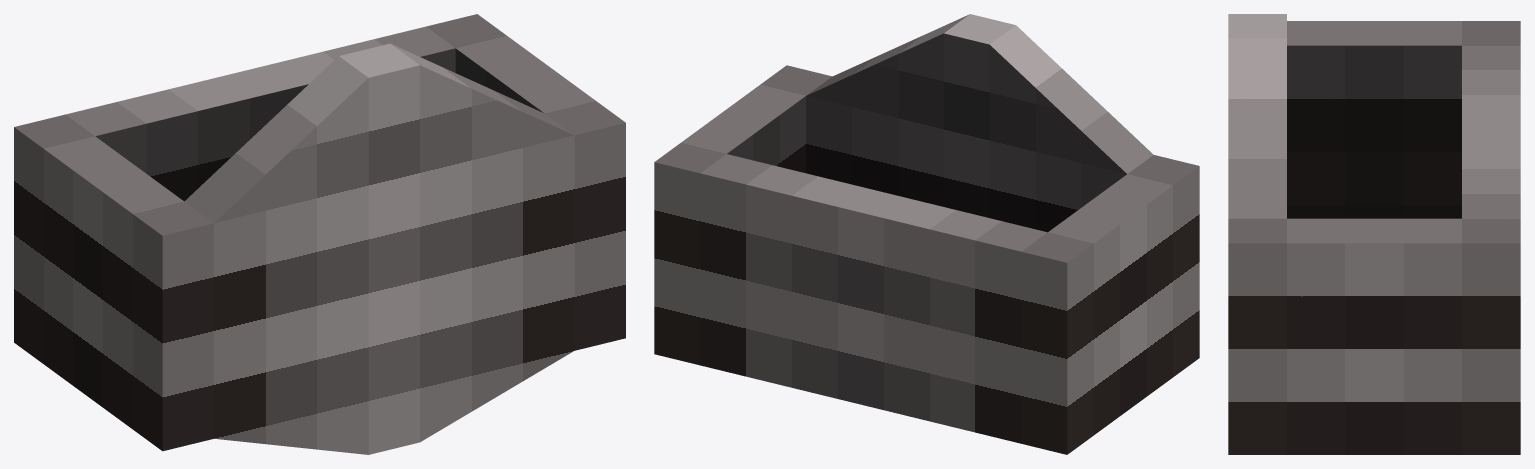
Rendered from sentinels_plackart.obj.
The picture shows the model from 3 angles, left to right: view 1: azimuth 30°, elevation 25°; view 2: azimuth 150°, elevation 25°; view 3: azimuth 270°, elevation 25°; orthographic projection. The views are drawn at different scales.
Parts seen in each view (by area): view 1: SENTINELS_PLACKART_Cube.031; view 2: SENTINELS_PLACKART_Cube.031; view 3: SENTINELS_PLACKART_Cube.031.
Boxes of the visible parts, x1,y1,x2,y2 form: SENTINELS_PLACKART_Cube.031: (14,14,625,454); SENTINELS_PLACKART_Cube.031: (654,14,1199,454); SENTINELS_PLACKART_Cube.031: (1228,14,1520,454).
Size of the model in its own units: 0.5625 by 0.4375 by 0.3125.
